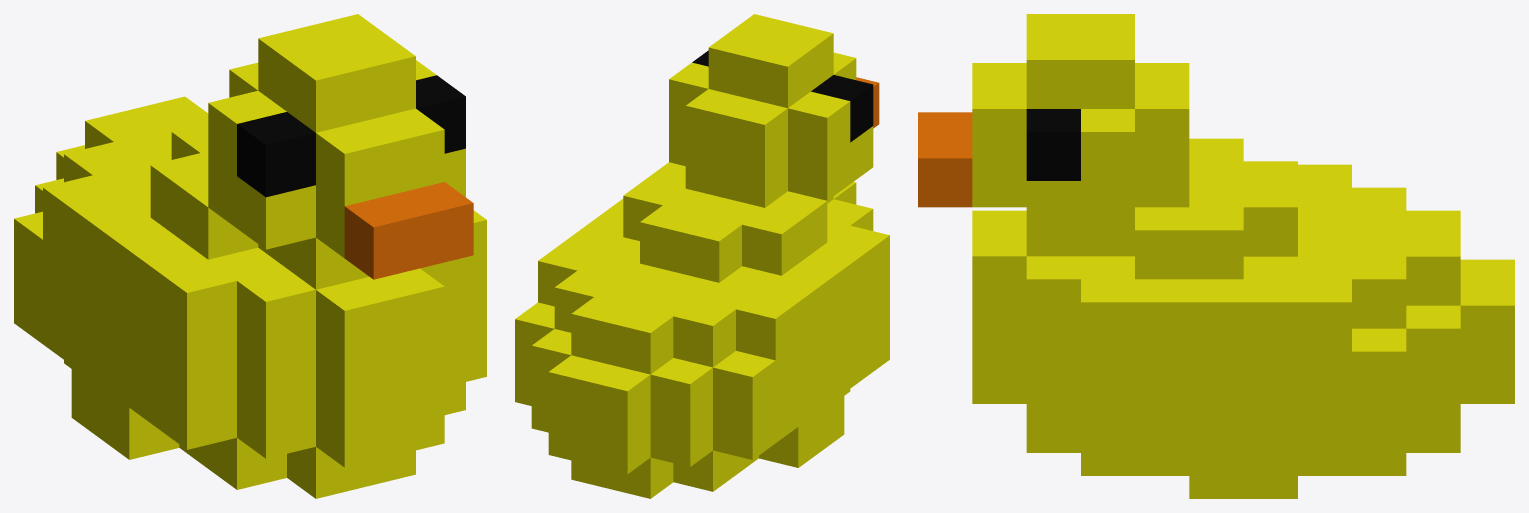
File: RubberDuck.fbx
3 renders of one model, left to right at view 1: azimuth 30°, elevation 25°; view 2: azimuth 150°, elevation 25°; view 3: azimuth 270°, elevation 25°, orthographic. The views are drawn at different scales.
Visible parts, largest first — view 1: RubberDuck; view 2: RubberDuck; view 3: RubberDuck.
Boxes of the visible parts, bbox=[...] form: RubberDuck: bbox=[14, 14, 486, 498]; RubberDuck: bbox=[515, 14, 889, 498]; RubberDuck: bbox=[918, 14, 1514, 498].
Size of the model in its own units: 60 by 80 by 110.
